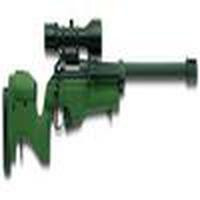gun: (1, 21, 200, 181)
